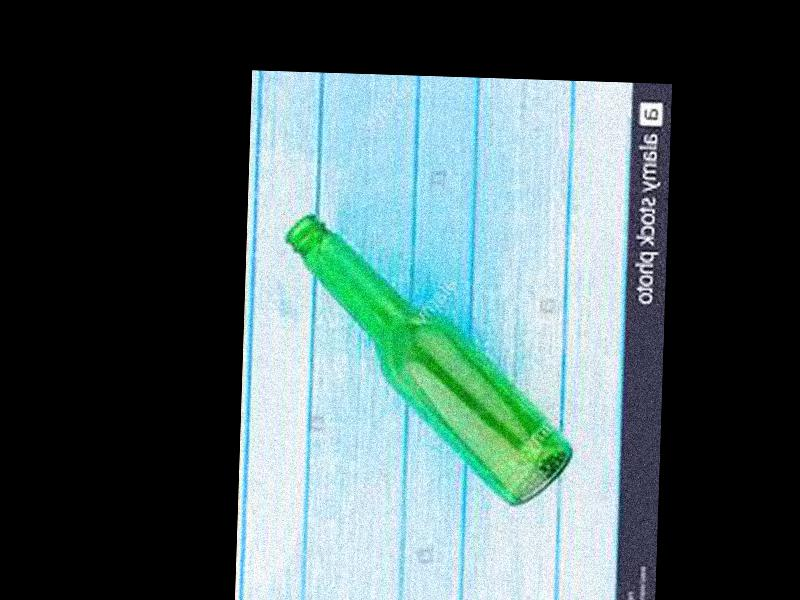Beer: (275, 210, 584, 511)
